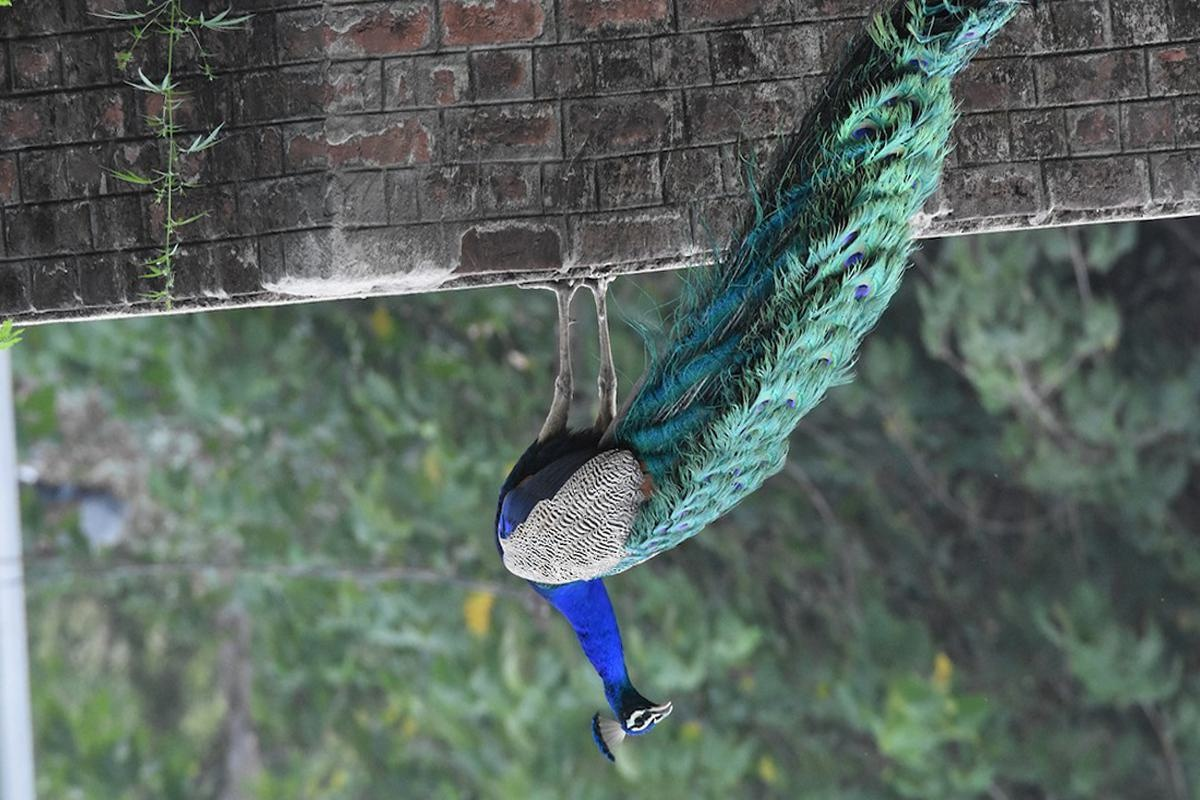peacock: (471, 16, 993, 767)
